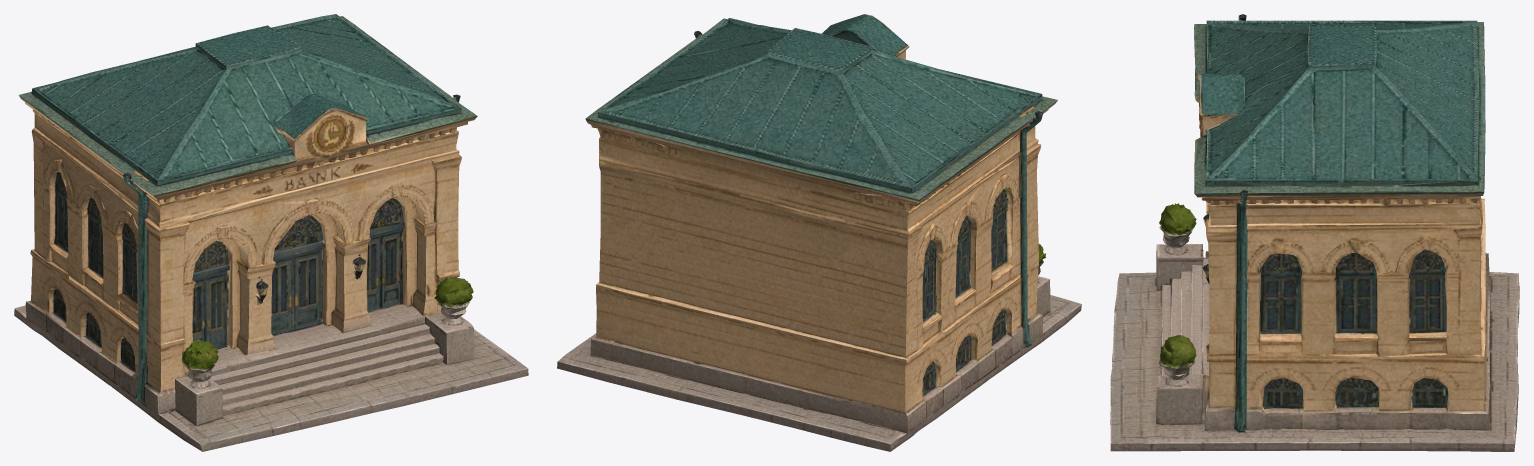
File: m_tb_bank.glb
3 renders of one model, left to right at view 1: azimuth 30°, elevation 25°; view 2: azimuth 150°, elevation 25°; view 3: azimuth 270°, elevation 25°, orthographic. The views are drawn at different scales.
Size of the model in its own units: 0.998 by 0.8227 by 0.955.
Materials: 1 (1 with a texture image).
